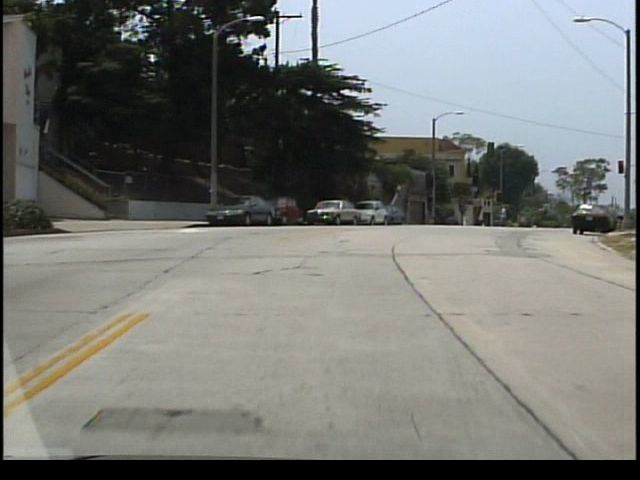person: (502, 205, 510, 227)
